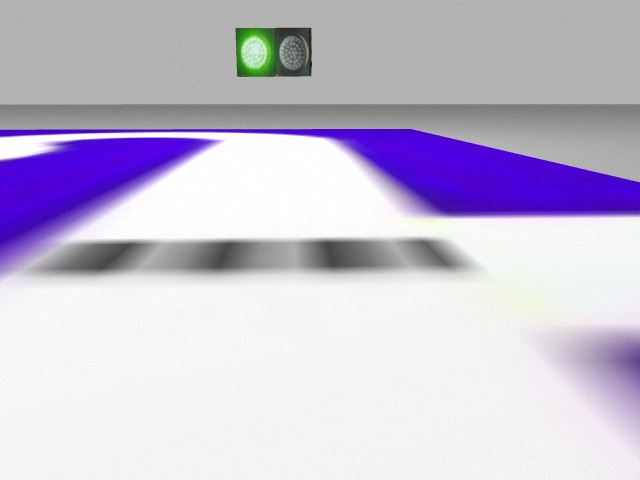green: (234, 29, 275, 76)
